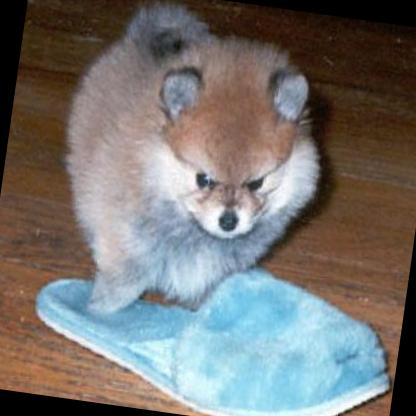Pomeranian: (41, 0, 339, 343)
